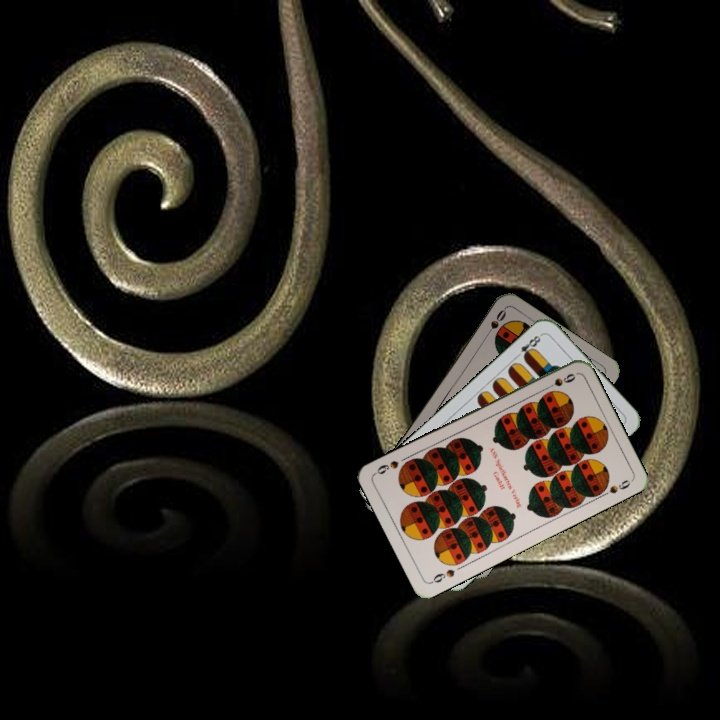E8: (511, 330, 545, 362)
S9: (540, 369, 578, 394), (426, 565, 457, 586)
SO: (480, 305, 509, 341)
